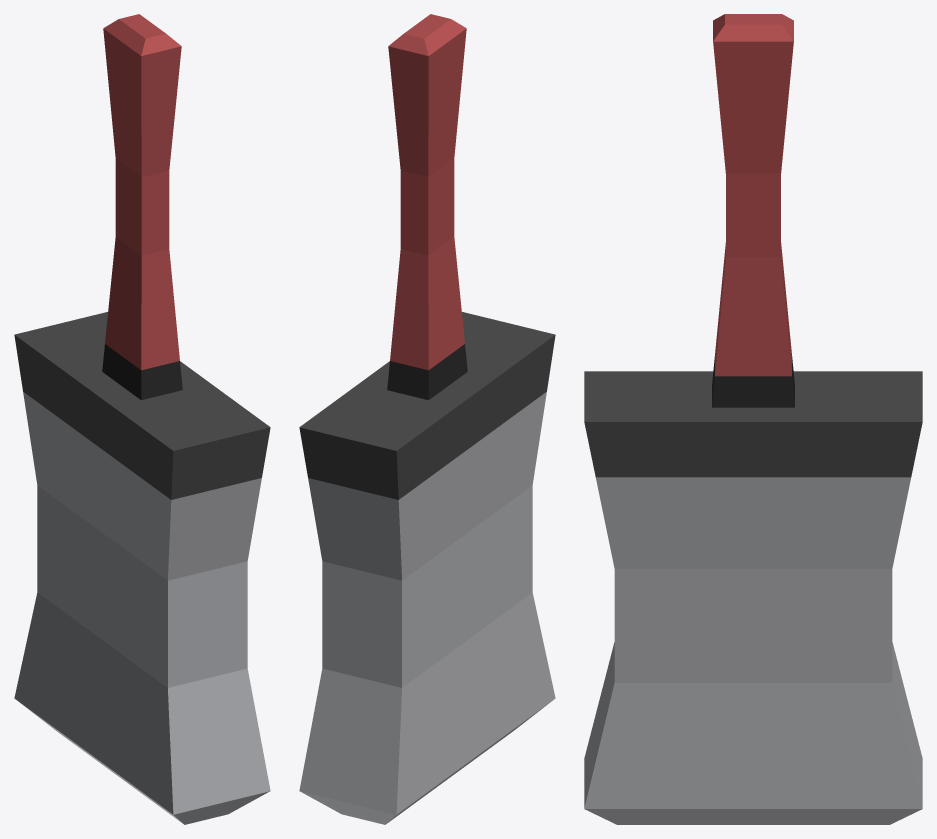
File: Brush.fbx
3 views of the same model, side by side, from view 1: azimuth 30°, elevation 25°; view 2: azimuth 150°, elevation 25°; view 3: azimuth 270°, elevation 25° (orthographic). The views are drawn at different scales.
Parts seen in each view (by area): view 1: Brush; view 2: Brush; view 3: Brush.
Part boxes in pixels (x1=…): Brush: x1=14, y1=14, x2=270, y2=824; Brush: x1=299, y1=14, x2=555, y2=824; Brush: x1=584, y1=14, x2=922, y2=824.
Size of the model in its own units: 3.56 by 26.11 by 10.08.
